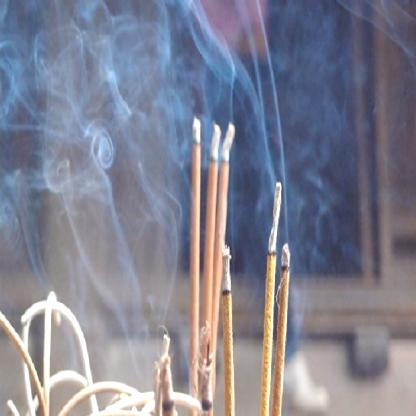smoke: (0, 0, 181, 261), (274, 10, 334, 188), (192, 0, 238, 114)
